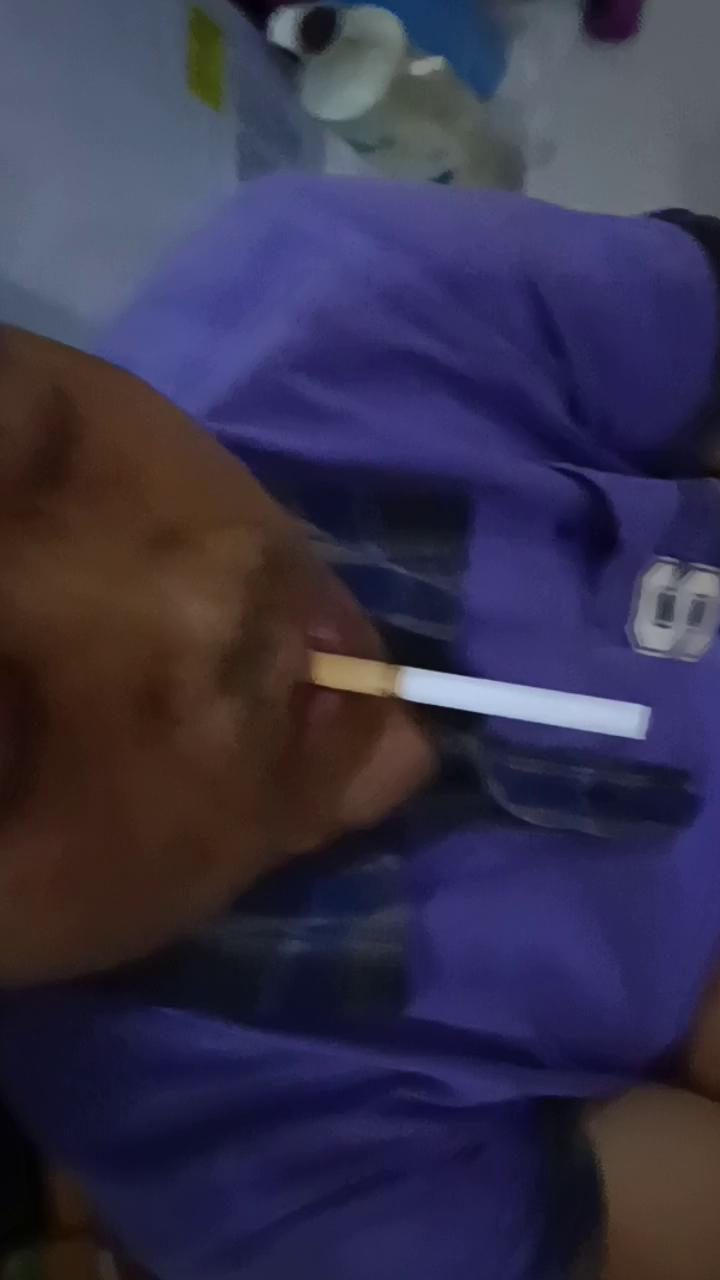smoke: (298, 642, 659, 746)
